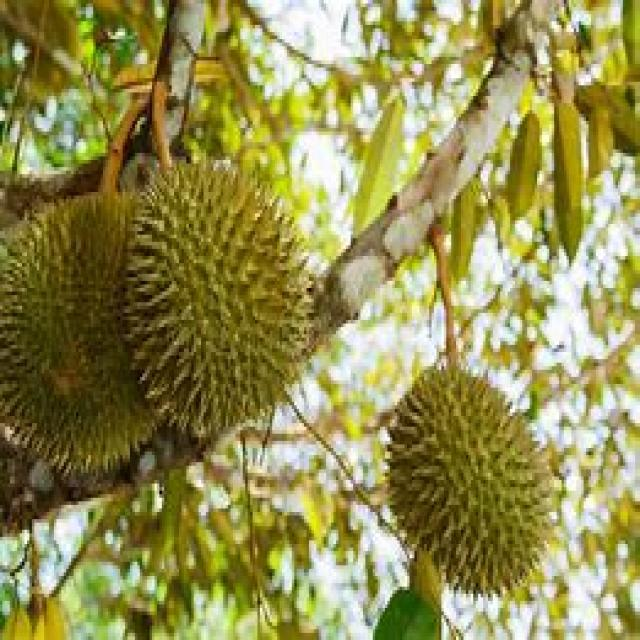mature: (126, 165, 310, 438), (0, 198, 155, 472), (390, 368, 550, 594)
